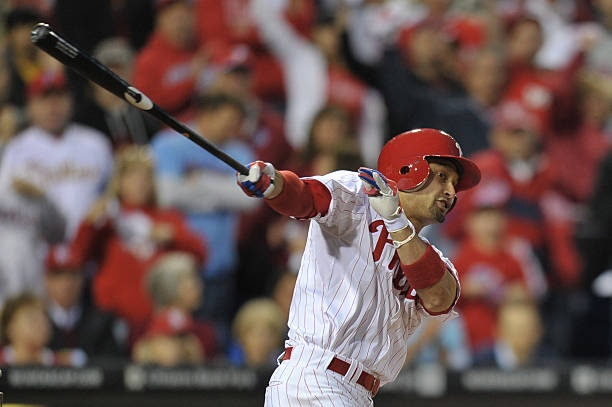bita: (29, 24, 254, 184)
